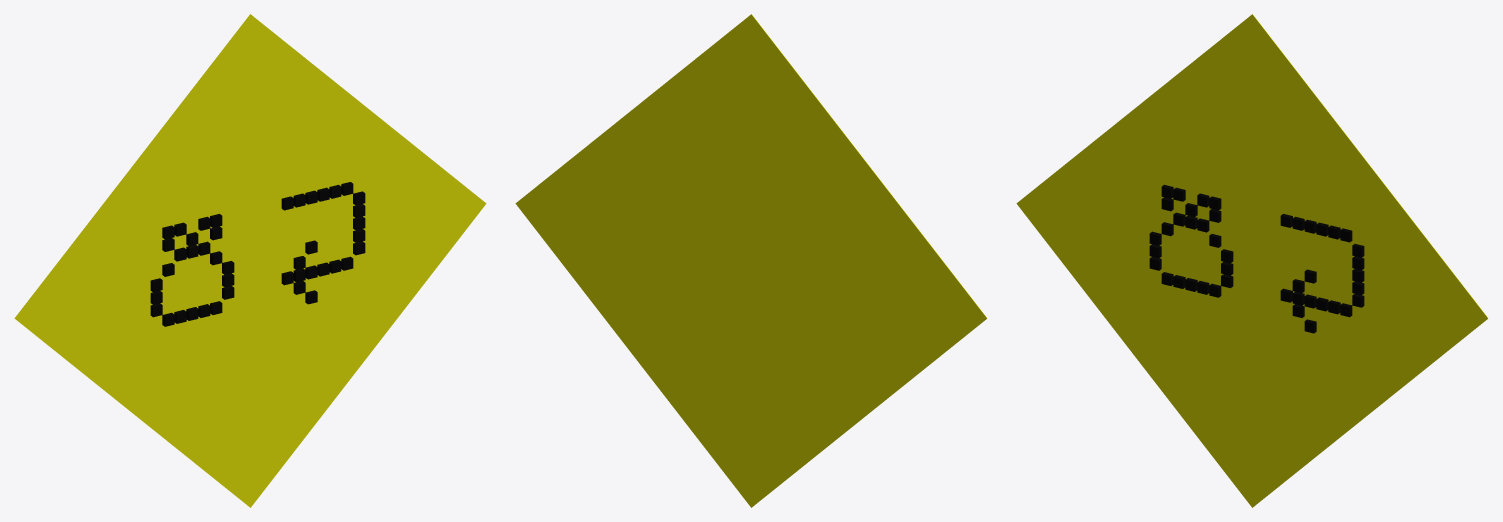
Rendered from Redraw.fbx.
The picture shows the model from 3 angles, left to right: view 1: azimuth 30°, elevation 25°; view 2: azimuth 150°, elevation 25°; view 3: azimuth 330°, elevation 25°; orthographic projection.
Parts seen in each view (by area): view 1: Cube.022; view 2: Cube.022; view 3: Cube.022.
Part boxes in pixels (x1=…): Cube.022: x1=14, y1=14, x2=486, y2=507; Cube.022: x1=515, y1=14, x2=987, y2=507; Cube.022: x1=1016, y1=14, x2=1488, y2=507.
Bounding box in the file's own units: 198 × 198 × 2.1.
